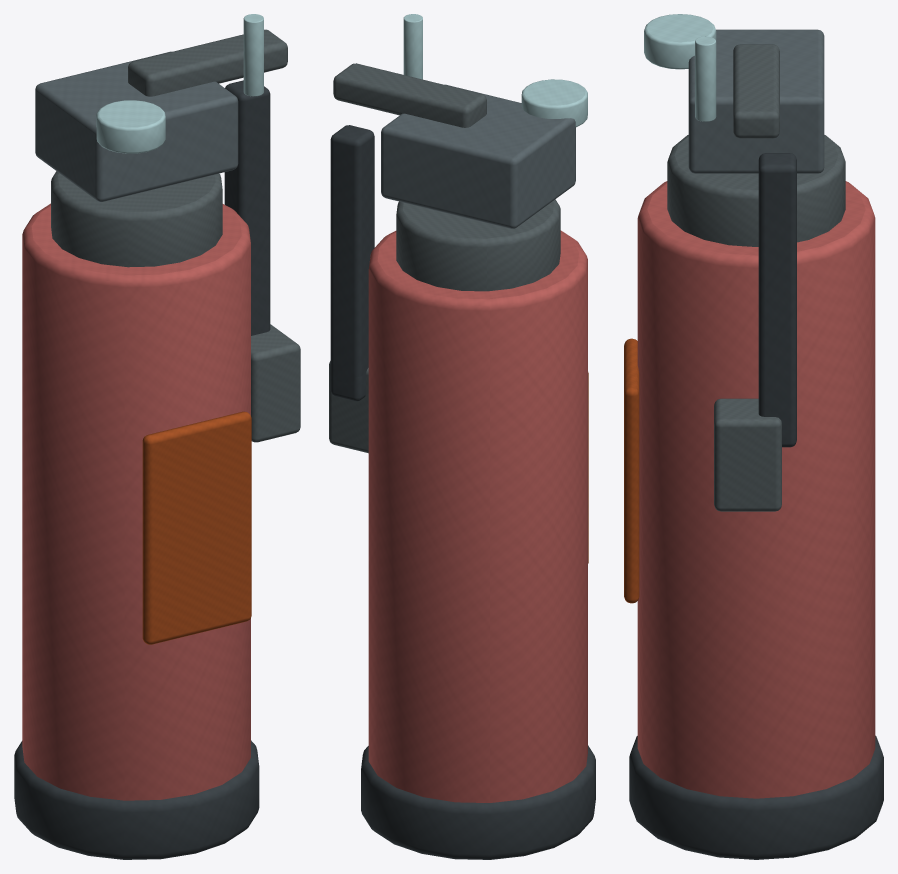
Rendered from FireExtinguisher.fbx.
3 renders of one model, left to right at view 1: azimuth 30°, elevation 25°; view 2: azimuth 150°, elevation 25°; view 3: azimuth 270°, elevation 25°, orthographic. The views are drawn at different scales.
Visible parts, largest first — view 1: FireExtinguisher_Mesh; view 2: FireExtinguisher_Mesh; view 3: FireExtinguisher_Mesh.
Part boxes in pixels (<box>): FireExtinguisher_Mesh: <box>14,14,300,859</box>; FireExtinguisher_Mesh: <box>329,14,595,859</box>; FireExtinguisher_Mesh: <box>624,14,883,859</box>.
Bounding box in the file's own units: 35.5 × 106 × 30.6.
